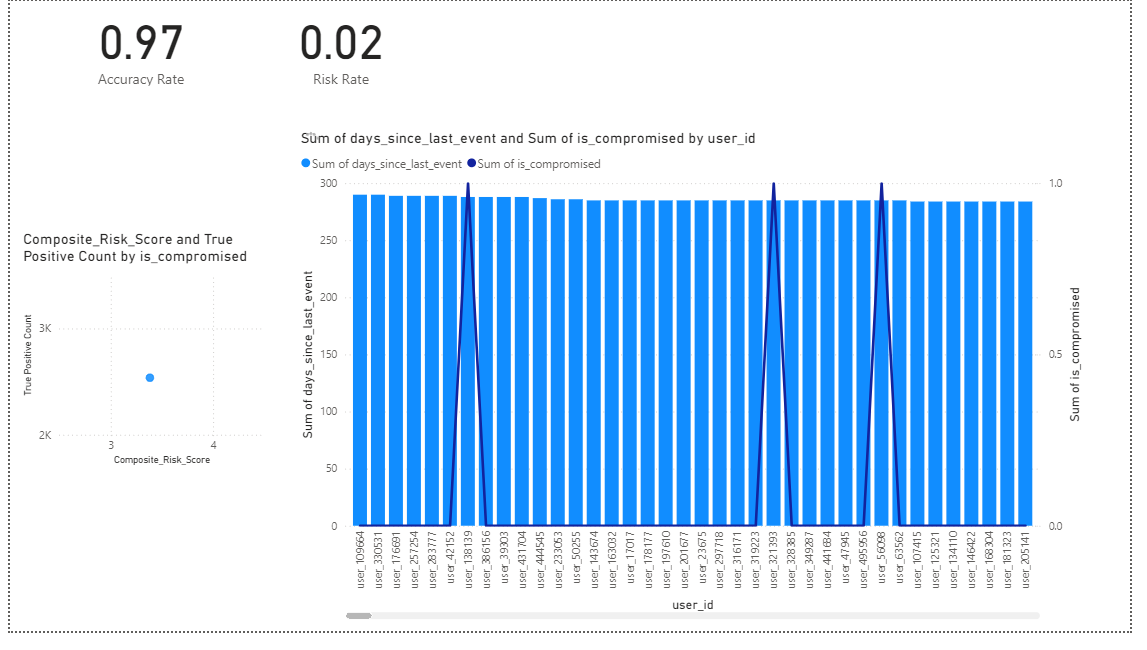

The dashboard page shown, as its layout file describes it:
{"tool":"powerbi","page":{"name":"Page 1","canvas":[1280,720],"ordinal":0},"visuals":[{"type":"card","fields":{"Values":["final_dashboard_table.Accuracy Rate"]},"box":[9.6,0,279.9,101.5],"z":0},{"type":"card","fields":{"Values":["final_dashboard_table.Risk Rate"]},"box":[238.8,0,279.9,101.5],"z":1},{"type":"scatterChart","fields":{"X":["final_dashboard_table.Composite_Risk_Score"],"Y":["final_dashboard_table.True Positive Count"],"Category":["final_dashboard_table.is_compromised","final_dashboard_table.y_pred"]},"box":[10,261.4,290,274.3],"z":2},{"type":"lineStackedColumnComboChart","fields":{"Category":["final_dashboard_table.user_id"],"Y":["Sum(final_dashboard_table.days_since_last_event)"],"Y2":["Sum(final_dashboard_table.is_compromised)"]},"box":[327.1,145.7,902.9,565.7],"z":3}]}

Visuals, with their boxes in screenshot pixels (x1, y1, x2, y2), scaled from the page's 1280x720 canvas onto the 1147x650 screenshot:
card - final_dashboard_table.Accuracy Rate: 9, 0, 259, 92
card - final_dashboard_table.Risk Rate: 214, 0, 465, 92
scatterChart - final_dashboard_table.Composite_Risk_Score x final_dashboard_table.True Positive Count: 9, 236, 269, 484
lineStackedColumnComboChart - final_dashboard_table.user_id x Sum(final_dashboard_table.days_since_last_event): 293, 132, 1102, 642
